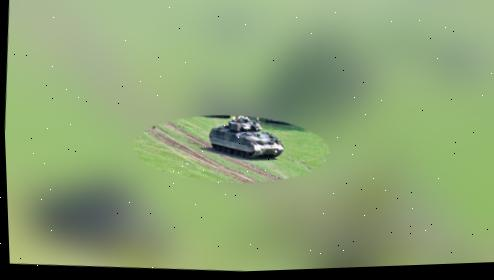armored_car: (205, 112, 288, 162)
